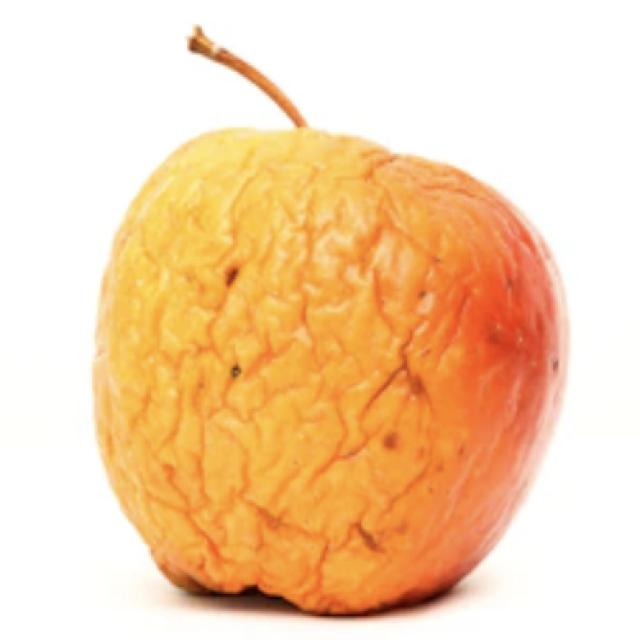rotten_apple: (89, 59, 566, 618)
